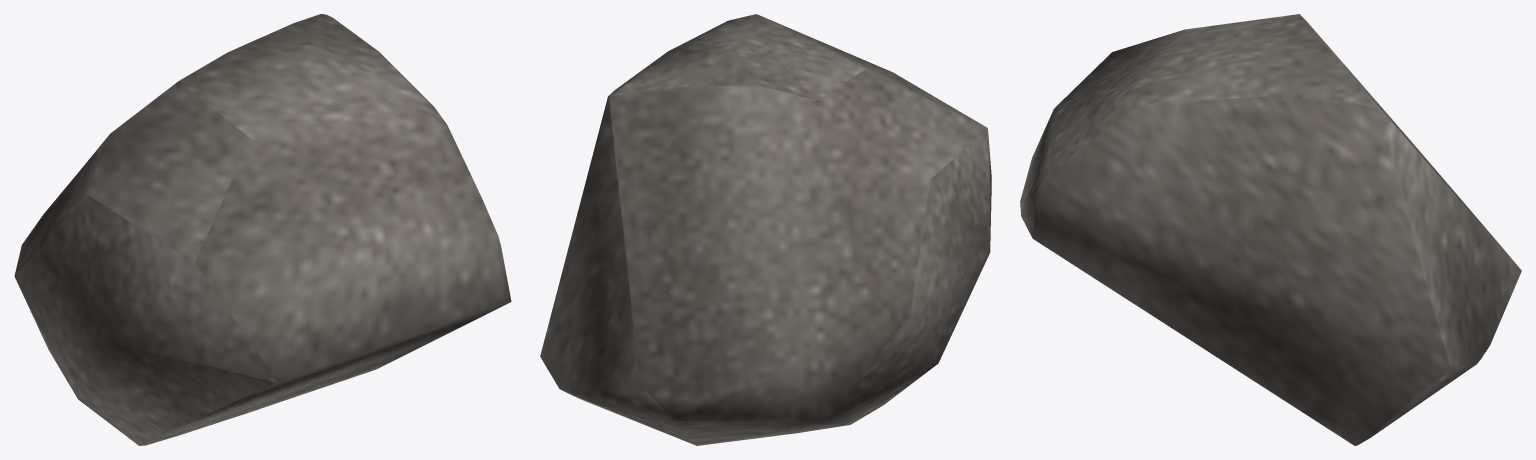
The model's file is boulder_14.glb.
The picture shows the model from 3 angles, left to right: view 1: azimuth 30°, elevation 25°; view 2: azimuth 150°, elevation 25°; view 3: azimuth 270°, elevation 25°; orthographic projection. The views are drawn at different scales.
Parts seen in each view (by area): view 1: boulder_14; view 2: boulder_14; view 3: boulder_14.
Boxes of the visible parts, box(x1,y1,x2,y2) form: boulder_14: box(14, 14, 511, 445); boulder_14: box(540, 14, 991, 445); boulder_14: box(1020, 14, 1521, 445).
Size of the model in its own units: 3.2 by 3.23 by 4.25.
Materials: 1 (1 with a texture image).
